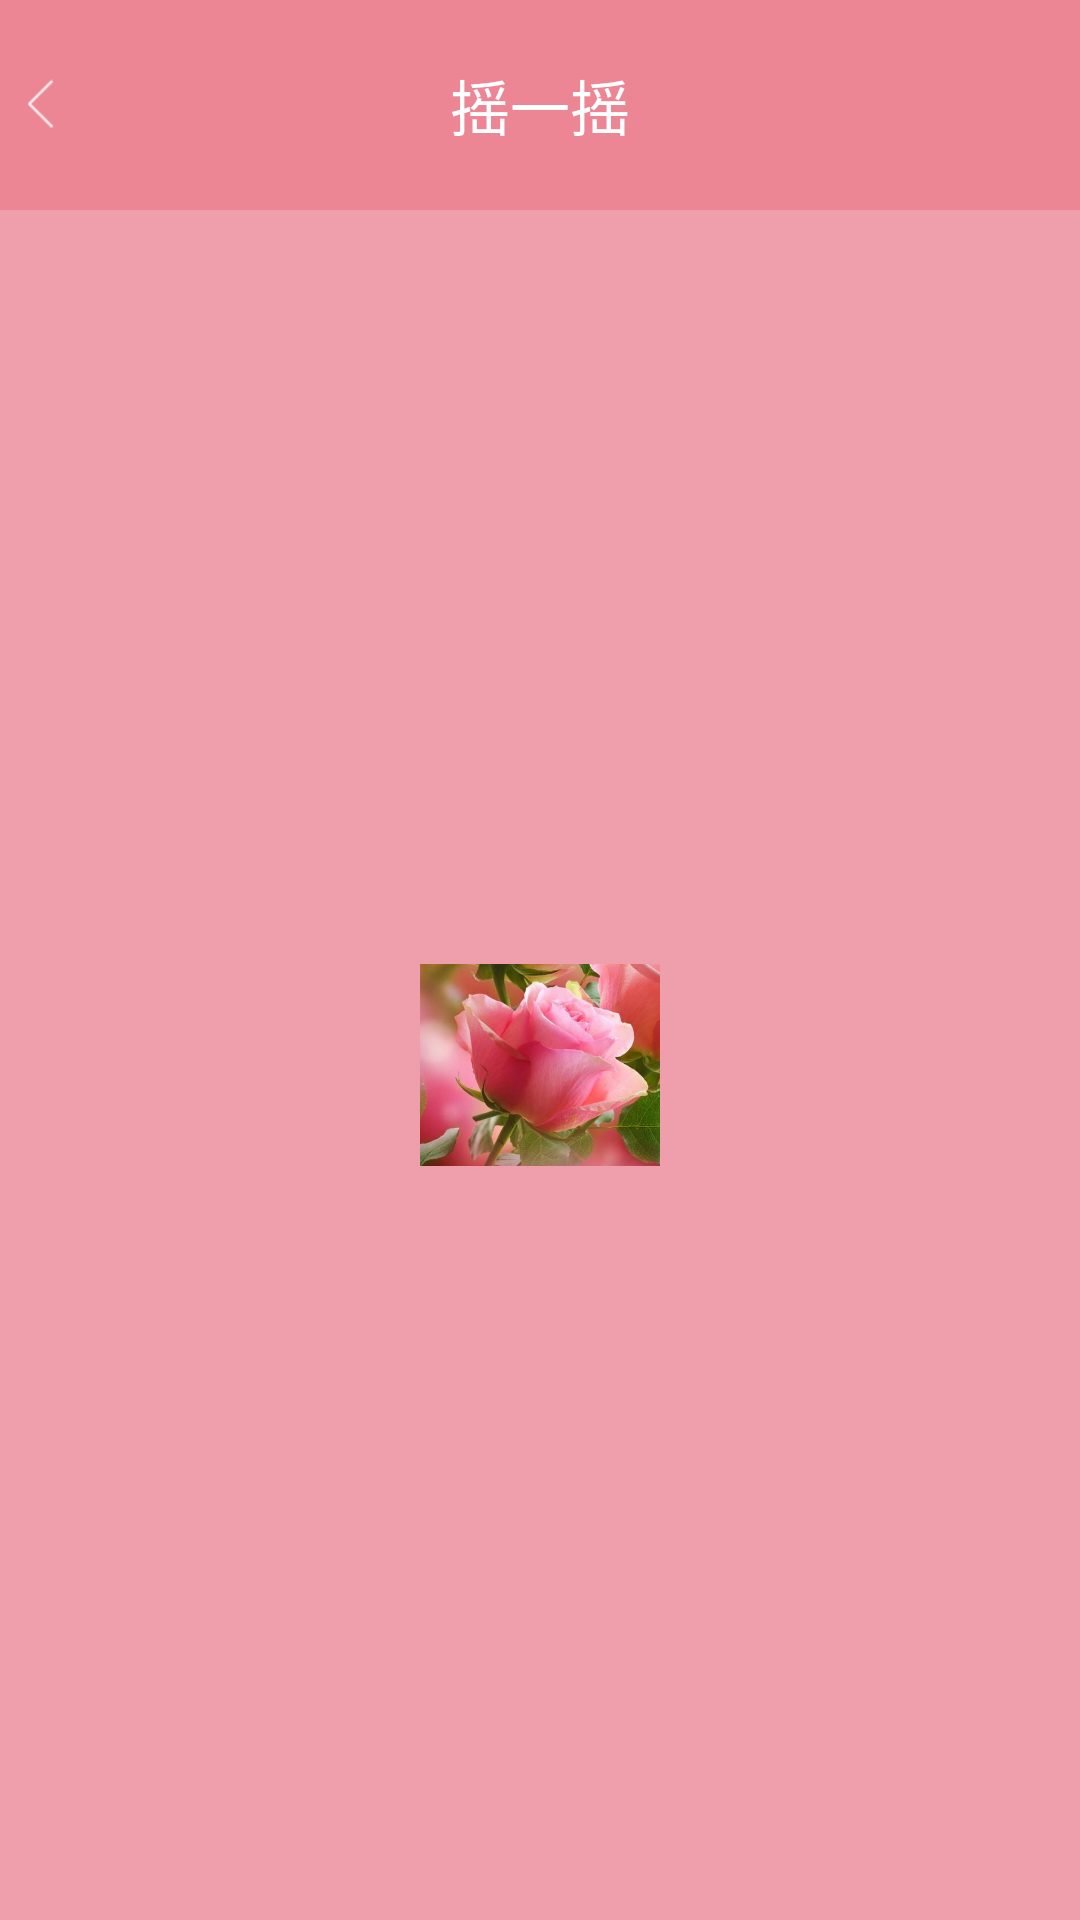

Point at icon controls on the screen. Image size 1080*1920, points as [x,y].
back: [40,104]
